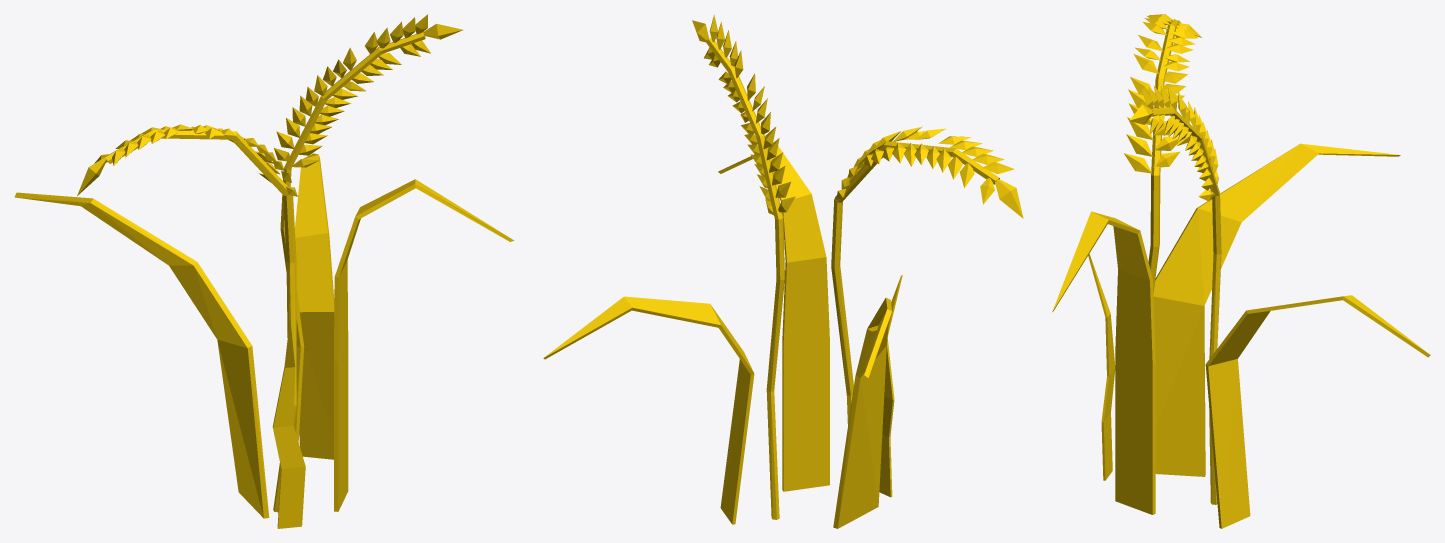
Rendered from wheat2.fbx.
The picture shows the model from 3 angles, left to right: view 1: azimuth 30°, elevation 25°; view 2: azimuth 150°, elevation 25°; view 3: azimuth 270°, elevation 25°; orthographic projection.
Parts seen in each view (by area): view 1: wheat2; view 2: wheat2; view 3: wheat2.
Part boxes in pixels (x1=…): wheat2: x1=14, y1=14, x2=513, y2=528; wheat2: x1=543, y1=14, x2=1023, y2=528; wheat2: x1=1052, y1=14, x2=1430, y2=528.
Bounding box in the file's own units: 74.62 × 88.08 × 65.31.
